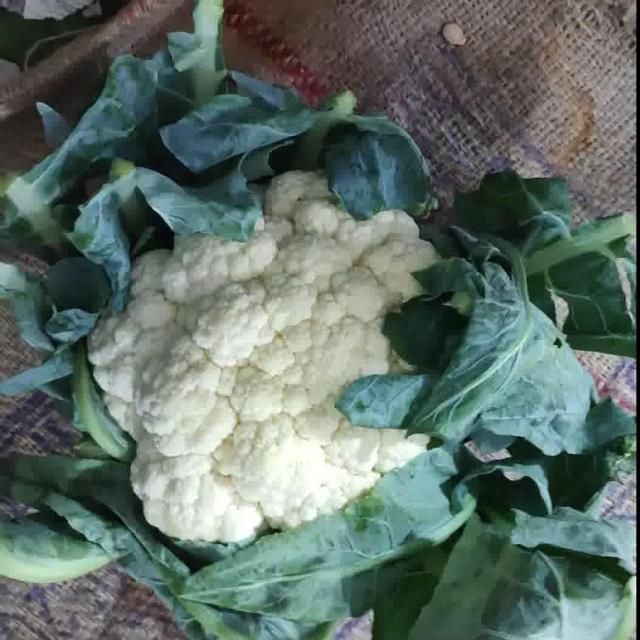Cauliflower: (80, 168, 465, 547)
